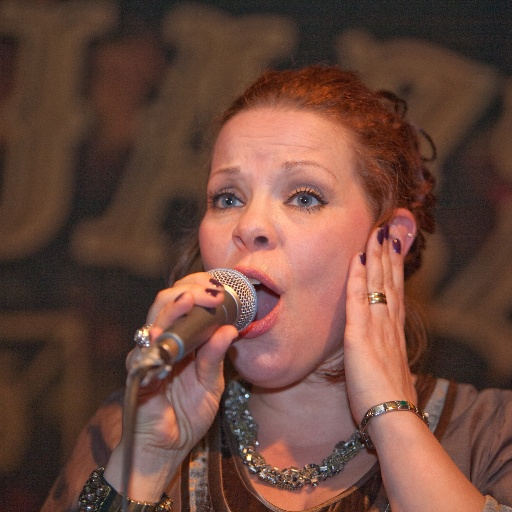hand: (117, 298, 247, 469), (341, 221, 417, 426)
